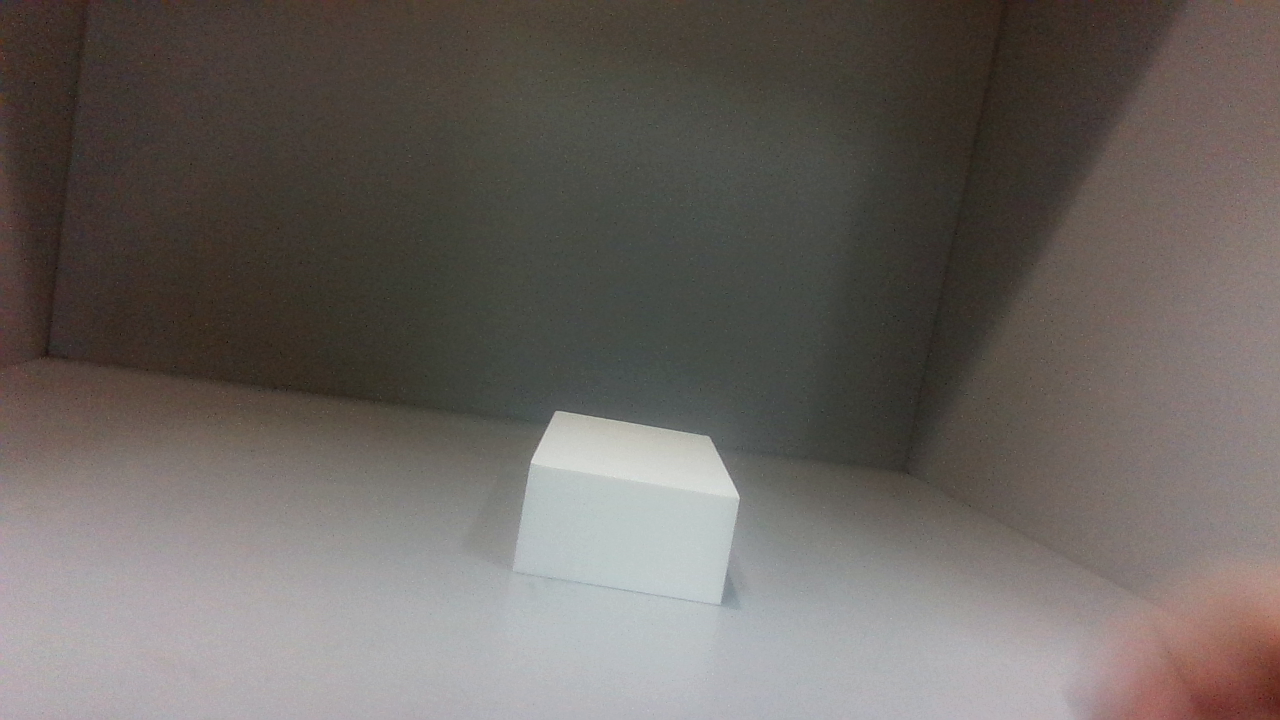Retangulo: (513, 411, 739, 603)
